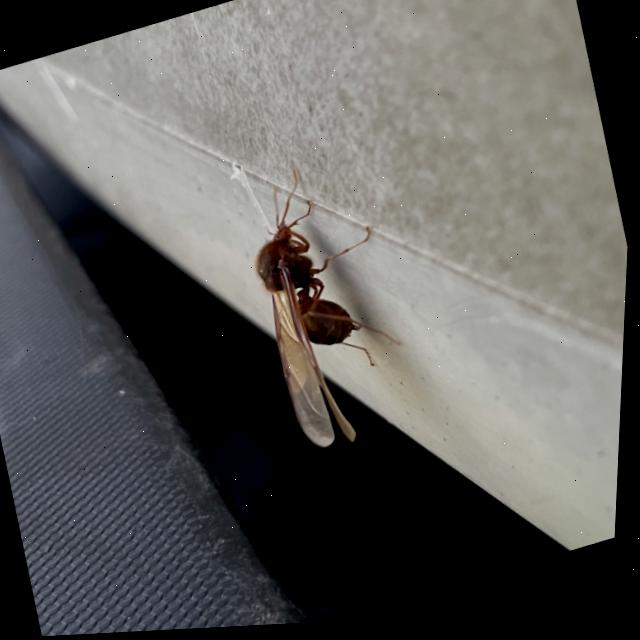Alive-Male-Alate: (230, 149, 432, 464)
